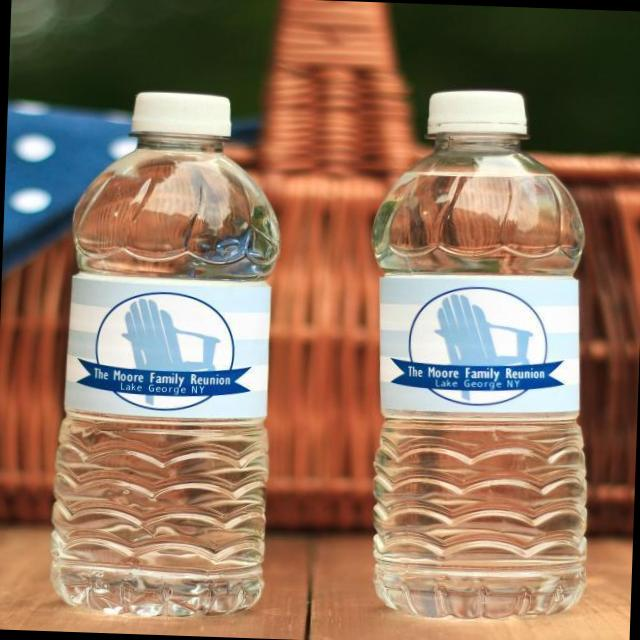plastic_bottle: (358, 87, 602, 624), (47, 89, 286, 621)
